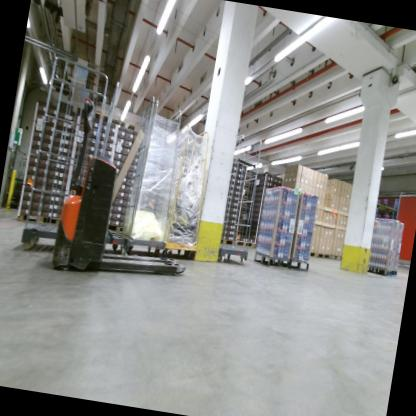pallet: (15, 204, 66, 230), (364, 265, 391, 278), (233, 237, 254, 251), (217, 236, 234, 249), (329, 250, 346, 262), (317, 249, 332, 261), (307, 249, 317, 259), (391, 269, 399, 276)
pallet_truck: (52, 95, 218, 293)
